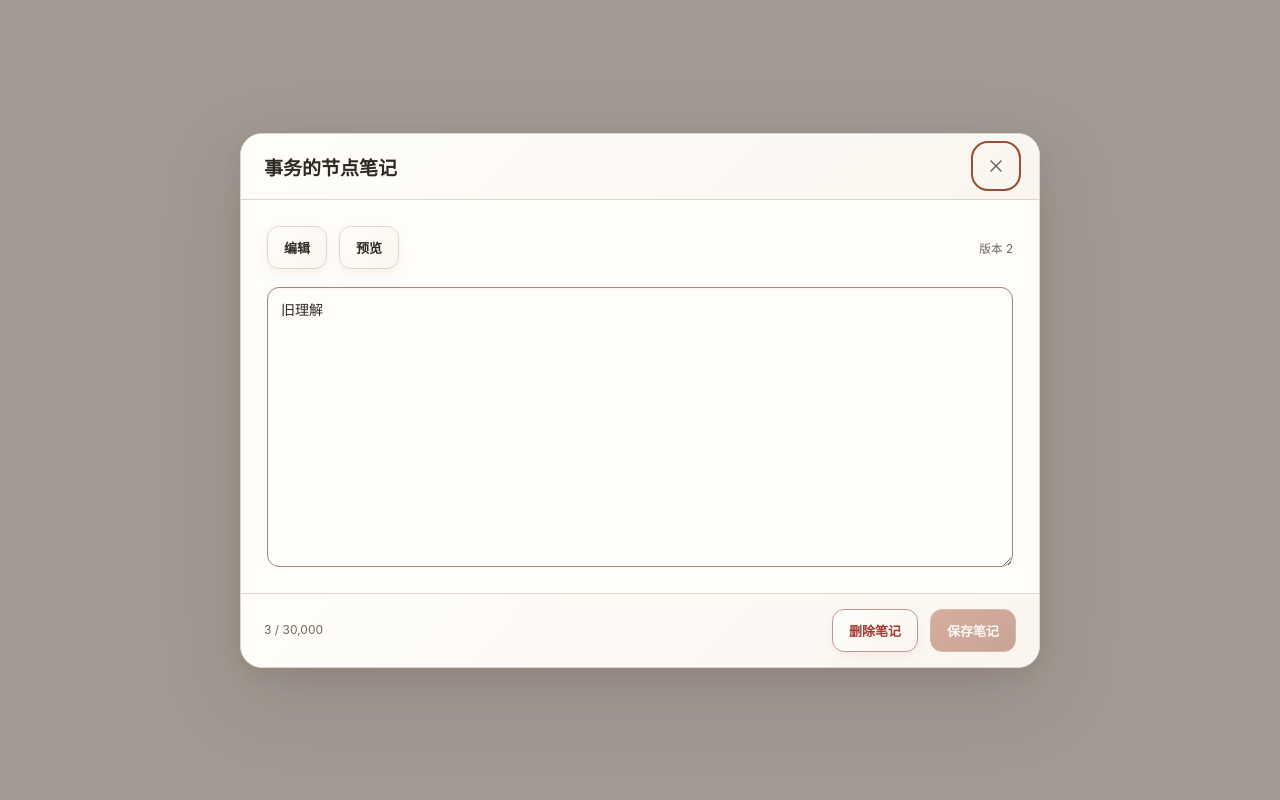
NodeNoteDialog › compares the latest remote note after a first-session save conflict before an explicit save
Replace the text in the text box named "Markdown 笔记" with "我尚未保存的理解": (640, 426) [267,286,1013,566]
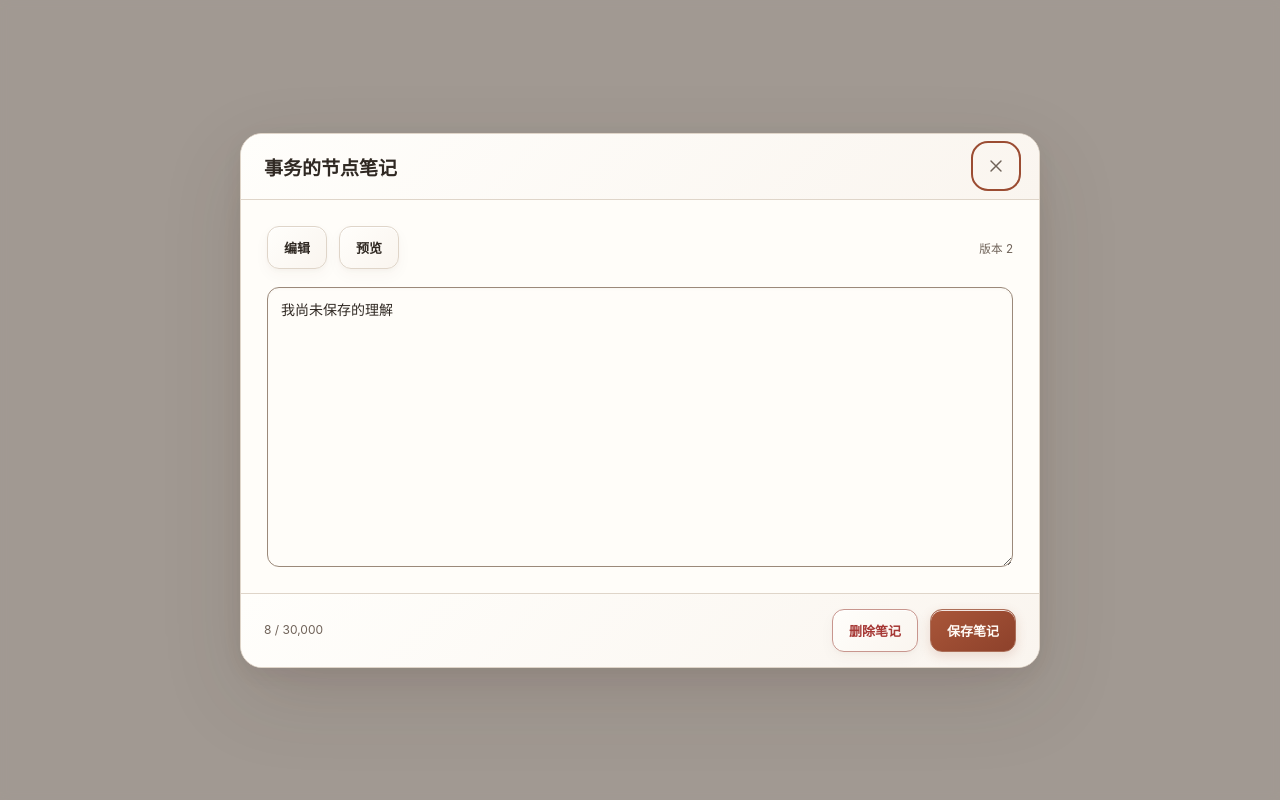
Click the button "保存笔记": click(973, 630) [930,608,1016,652]
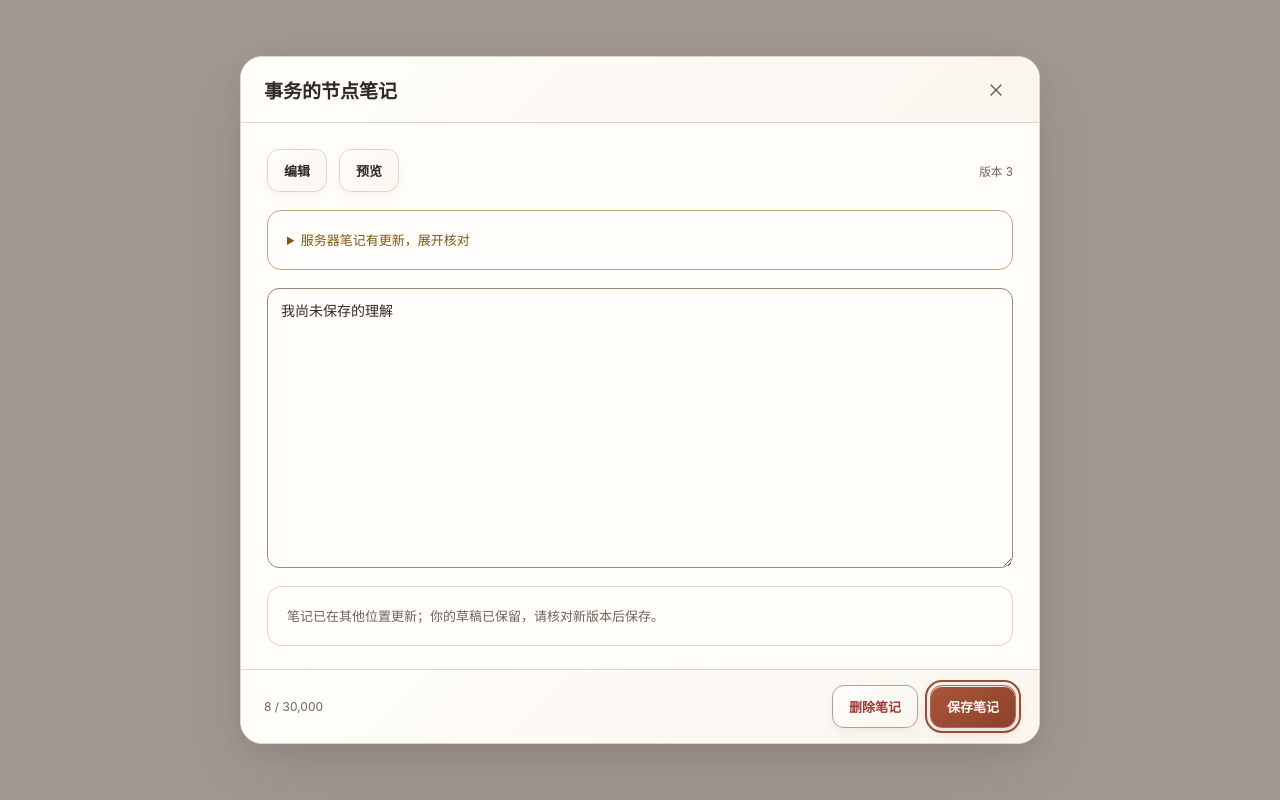
Expected: the text "笔记已在其他位置更新；你的草稿已保留，请核对新版本后保存。" is shown, [267,586,1013,646]
Expected: the text "版本 3" is shown, [979,162,1013,179]
Click the heading "服务器笔记有更新，展开核对": click(385, 240) [301,232,470,248]
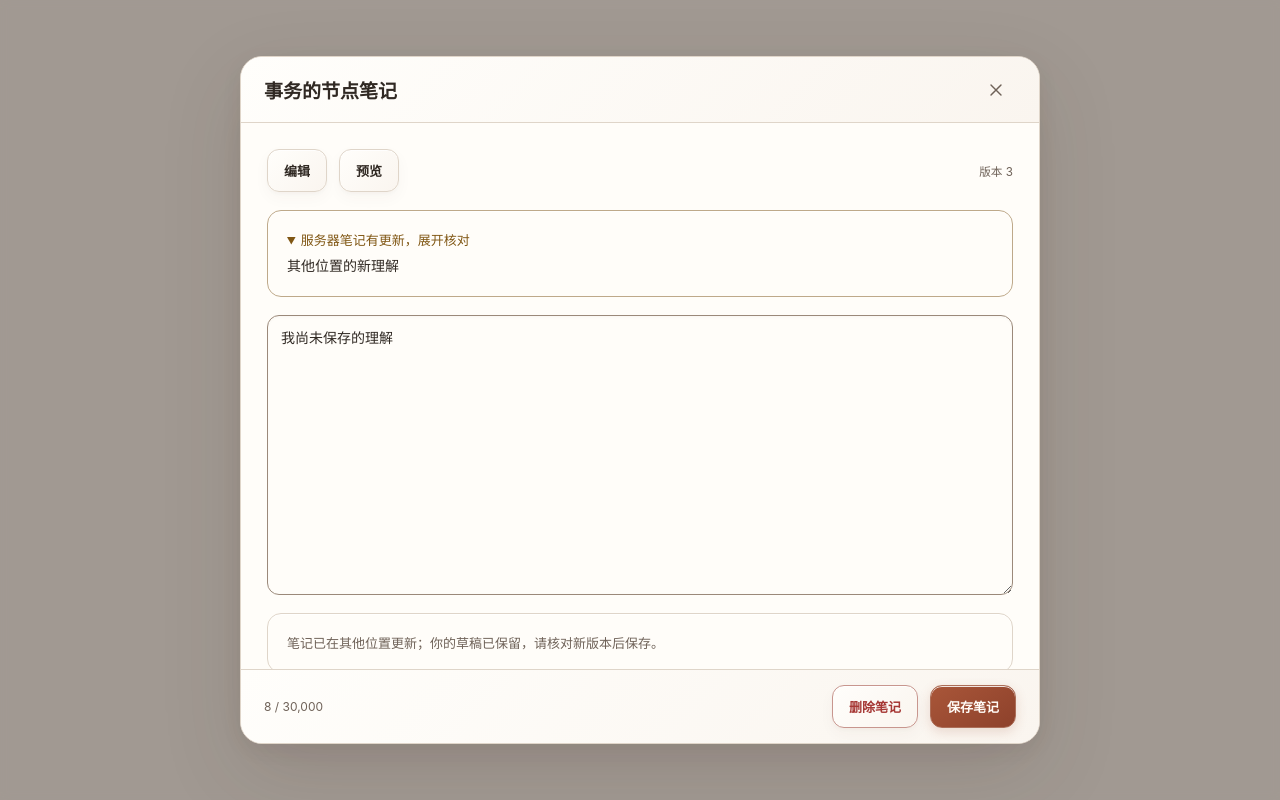
Expected: the text "服务器笔记有更新，展开核对" shows "其他位置的新理解", [287,257,399,274]
Click the button "保存笔记": click(973, 706) [930,685,1016,728]
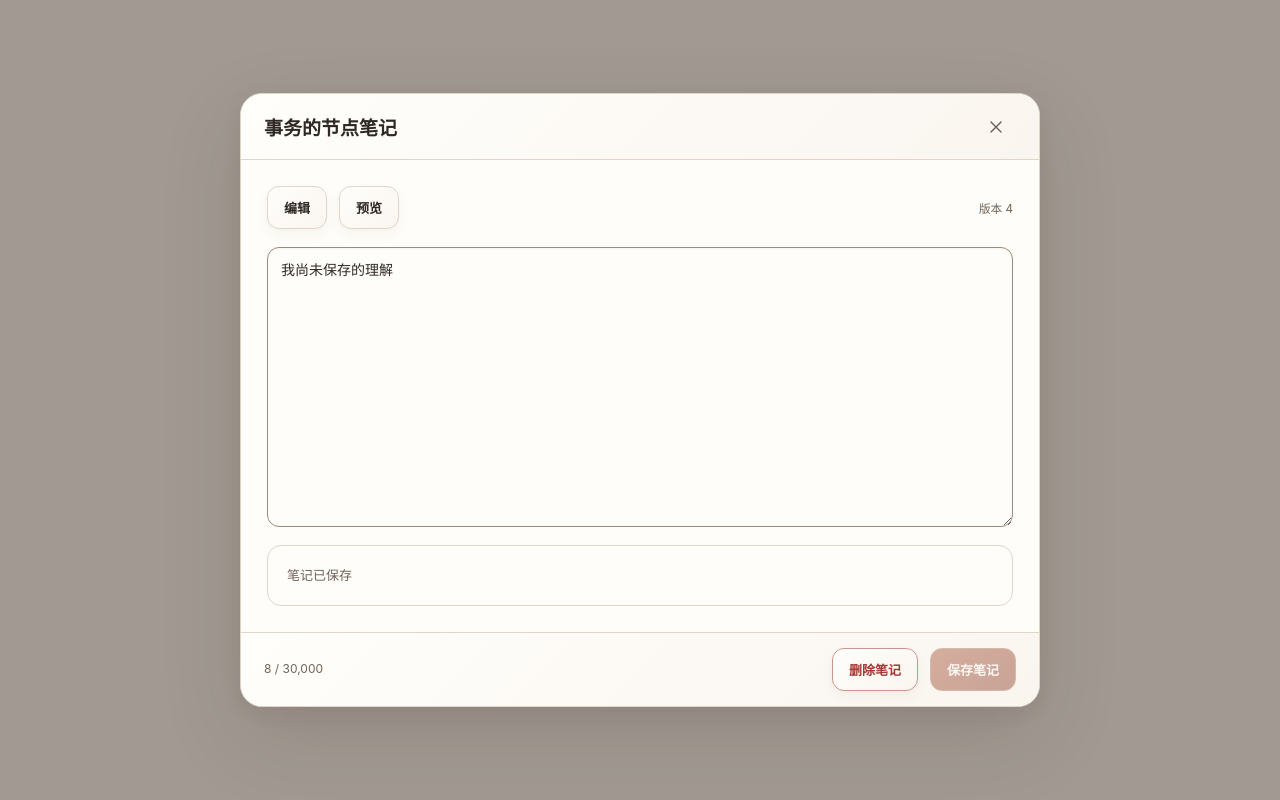
Expected: the text "笔记已保存" is shown, [267,546,1013,606]
Expected: the heading "服务器笔记有更新，展开核对" is gone
